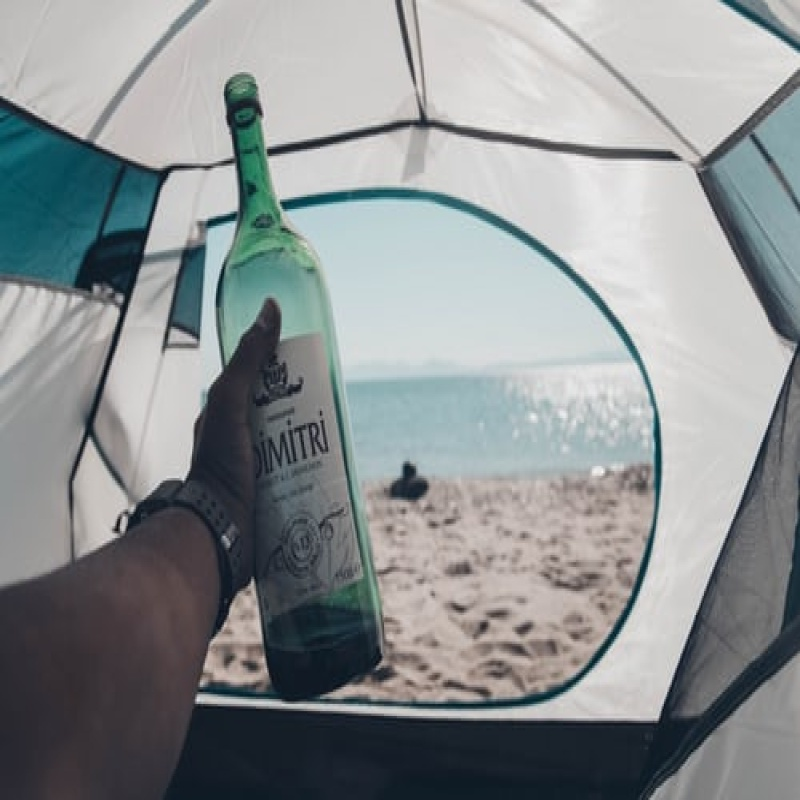wine: (217, 75, 387, 700)
